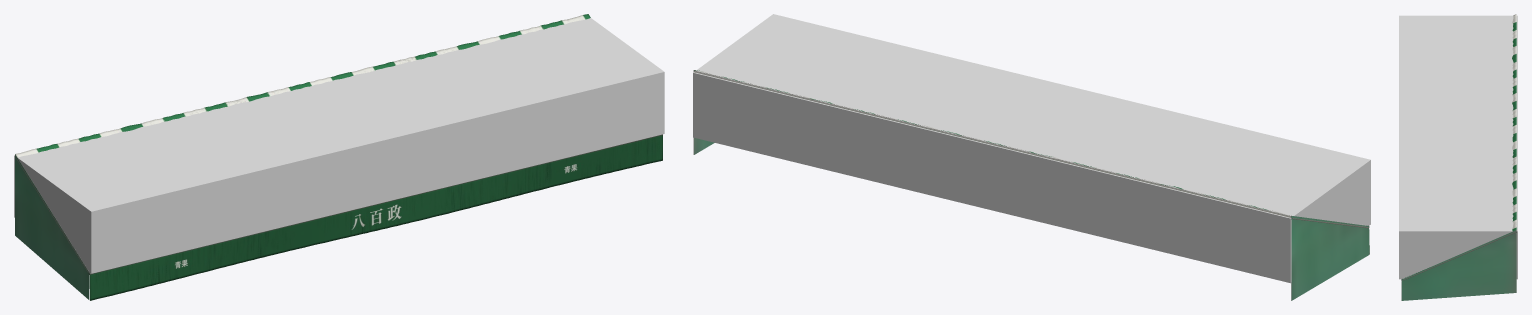
File: sf08_tent.gltf
The picture shows the model from 3 angles, left to right: view 1: azimuth 30°, elevation 25°; view 2: azimuth 150°, elevation 25°; view 3: azimuth 270°, elevation 25°; orthographic projection. The views are drawn at different scales.
Visible parts, largest first — view 1: sf08_tent_COL, sf08_tent_LOD0; view 2: sf08_tent_COL, sf08_tent_LOD0; view 3: sf08_tent_COL, sf08_tent_LOD0.
Boxes of the visible parts, bbox=[...] form: sf08_tent_COL: bbox=[14, 18, 664, 273]; sf08_tent_LOD0: bbox=[15, 14, 662, 300]; sf08_tent_COL: bbox=[693, 14, 1370, 283]; sf08_tent_LOD0: bbox=[693, 70, 1369, 300]; sf08_tent_COL: bbox=[1399, 15, 1517, 279]; sf08_tent_LOD0: bbox=[1401, 14, 1516, 300].
Size of what is drawn, in the model's own units: 5.81 by 0.8956 by 1.35.
1 material, 1 textured.
